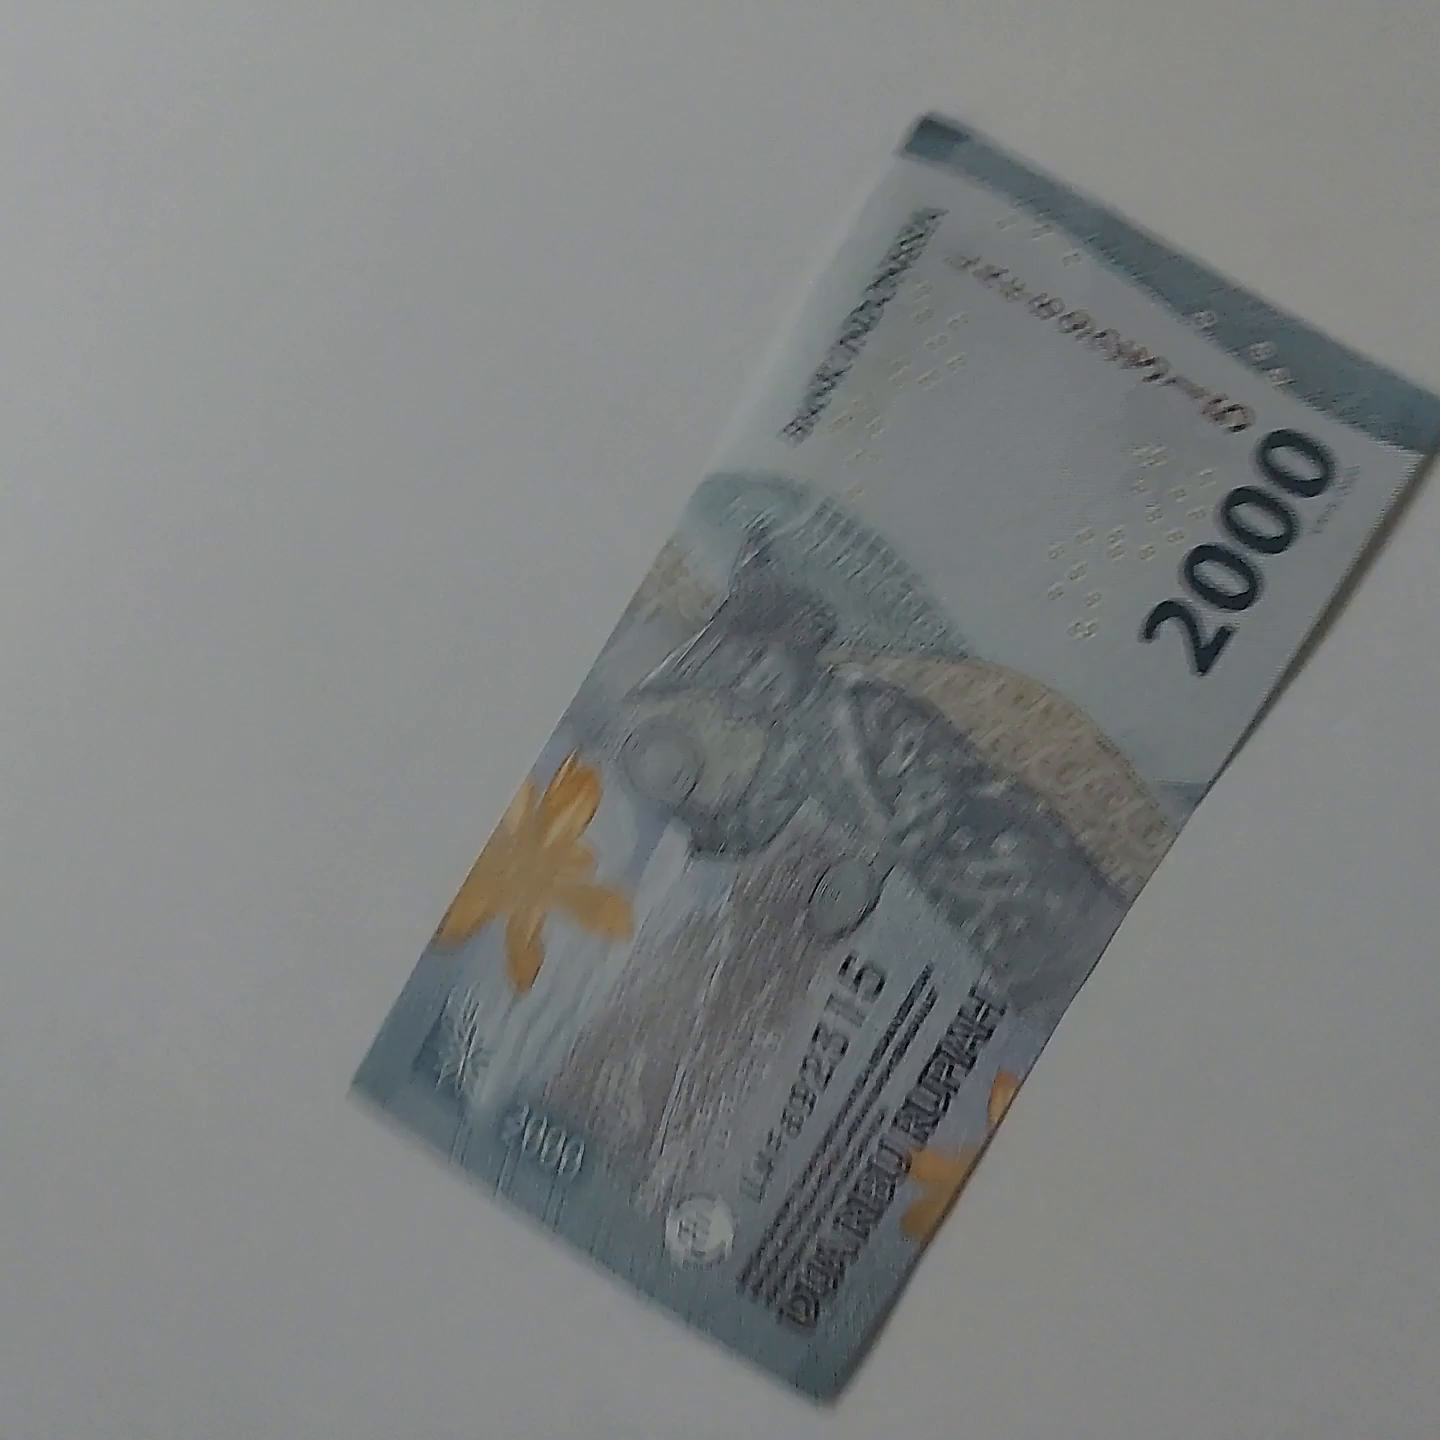2k: (927, 96, 1440, 1300)
